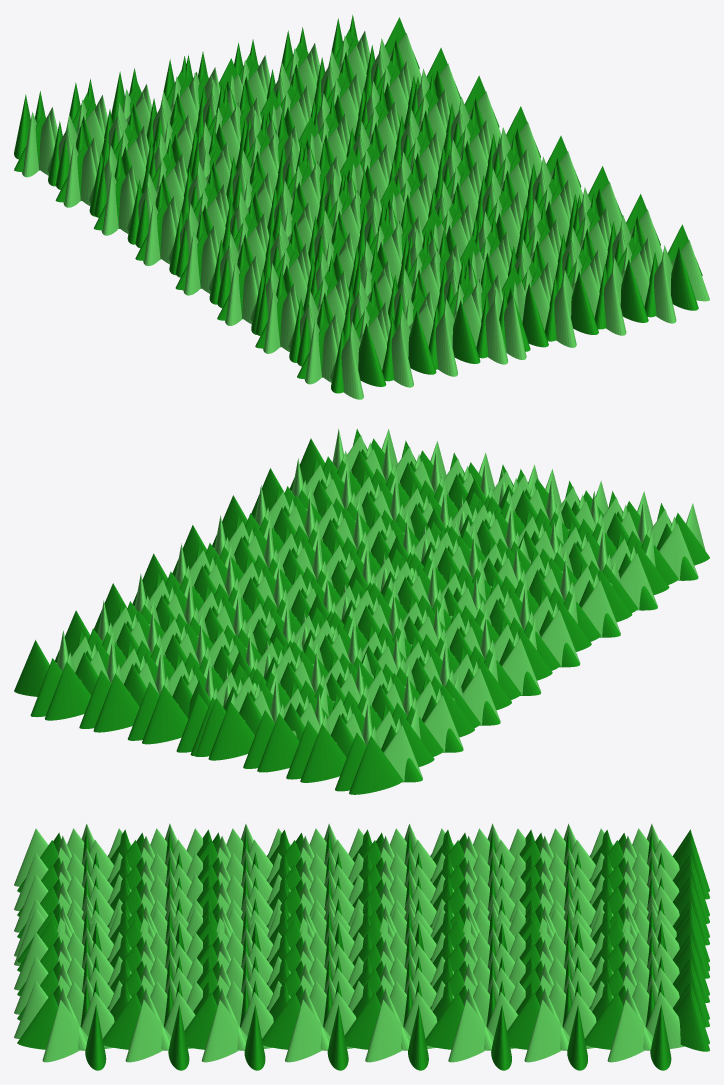
The model's file is grama.fbx.
3 views of the same model, one above another, from view 1: azimuth 30°, elevation 25°; view 2: azimuth 150°, elevation 25°; view 3: azimuth 270°, elevation 25° (orthographic). The views are drawn at different scales.
Parts seen in each view (by area): view 1: Cone.001, Cone.022, Cone.361, Cone.385, Cone.745, Cone.766, Cone.016, Cone.406, Cone.376, Cone.007, Cone.367, Cone.760 (+21 smaller); view 2: Cone.125, Cone.245, Cone.522, Cone.629, Cone.138, Cone.642, Cone.258, Cone.634, Cone.015, Cone.080, Cone.063, Cone.111 (+27 smaller); view 3: Cone.767, Cone.624, Cone.623, Cone.576, Cone.719, Cone.720, Cone.671, Cone.672, Cone.626, Cone.766, Cone.622, Cone.625 (+72 smaller).
Boxes of the visible parts, x1,y1,x2,y2 form: Cone.001: [408, 311, 436, 374]; Cone.022: [358, 323, 386, 386]; Cone.361: [452, 300, 480, 363]; Cone.385: [571, 271, 598, 334]; Cone.745: [620, 259, 648, 322]; Cone.766: [671, 247, 698, 310]; Cone.016: [330, 335, 363, 399]; Cone.406: [522, 283, 548, 347]; Cone.376: [485, 299, 508, 364]; Cone.007: [391, 323, 413, 387]; Cone.367: [435, 312, 457, 376]; Cone.760: [654, 259, 676, 323]; Cone.125: [349, 736, 402, 794]; Cone.245: [208, 701, 254, 760]; Cone.522: [142, 685, 188, 744]; Cone.629: [45, 661, 91, 720]; Cone.138: [300, 724, 346, 782]; Cone.642: [93, 673, 139, 732]; Cone.258: [257, 713, 299, 772]; Cone.634: [14, 640, 49, 696]; Cone.015: [659, 523, 698, 580]; Cone.080: [581, 580, 620, 636]; Cone.063: [541, 610, 580, 666]; Cone.111: [424, 695, 463, 751]; Cone.767: [42, 999, 88, 1062]; Cone.624: [607, 999, 653, 1062]; Cone.623: [448, 999, 493, 1062]; Cone.576: [365, 1000, 410, 1062]; Cone.719: [285, 999, 330, 1062]; Cone.720: [125, 999, 171, 1062]; Cone.671: [524, 999, 569, 1062]; Cone.672: [201, 999, 247, 1062]; Cone.626: [675, 989, 709, 1051]; Cone.766: [17, 992, 58, 1049]; Cone.622: [425, 992, 464, 1049]; Cone.625: [584, 992, 623, 1049].
Bounding box in the file's own units: 152 × 21.66 × 223.
